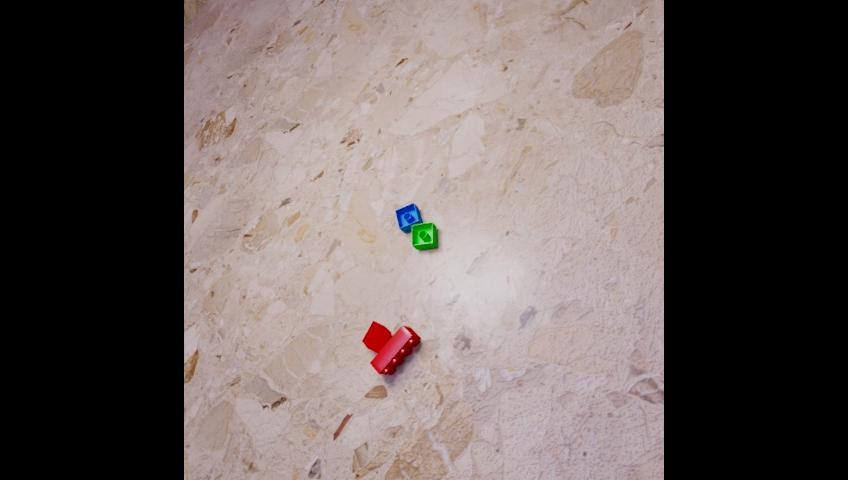2x2_blue: (395, 202, 423, 232)
2x2_green: (411, 222, 436, 249)
2x2_red: (361, 321, 391, 353)
4x2_red: (369, 325, 420, 374)
